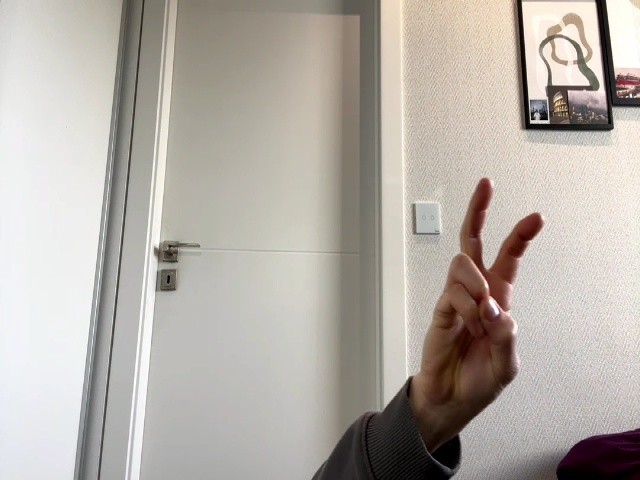H: (423, 178, 546, 419)
